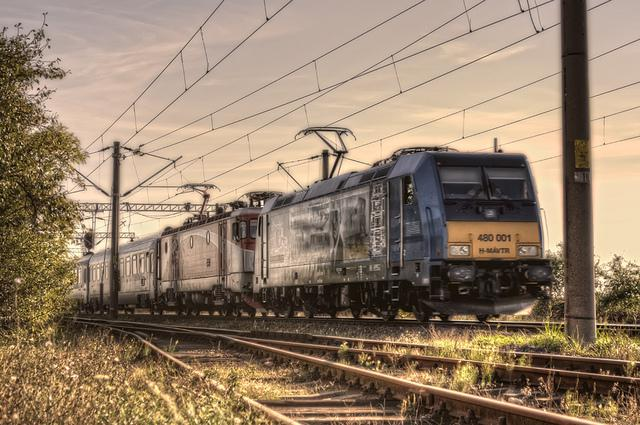Train: (123, 154, 551, 311)
